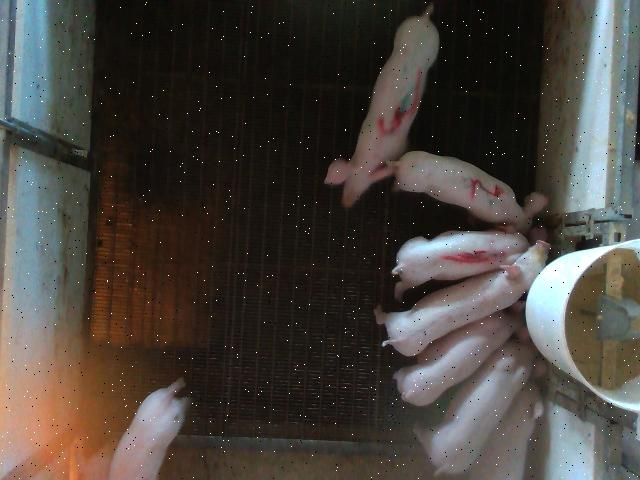pig-1: (391, 230, 529, 299), (507, 269, 521, 278)
pig-3: (325, 5, 439, 207)
pig-5: (390, 151, 548, 231)
